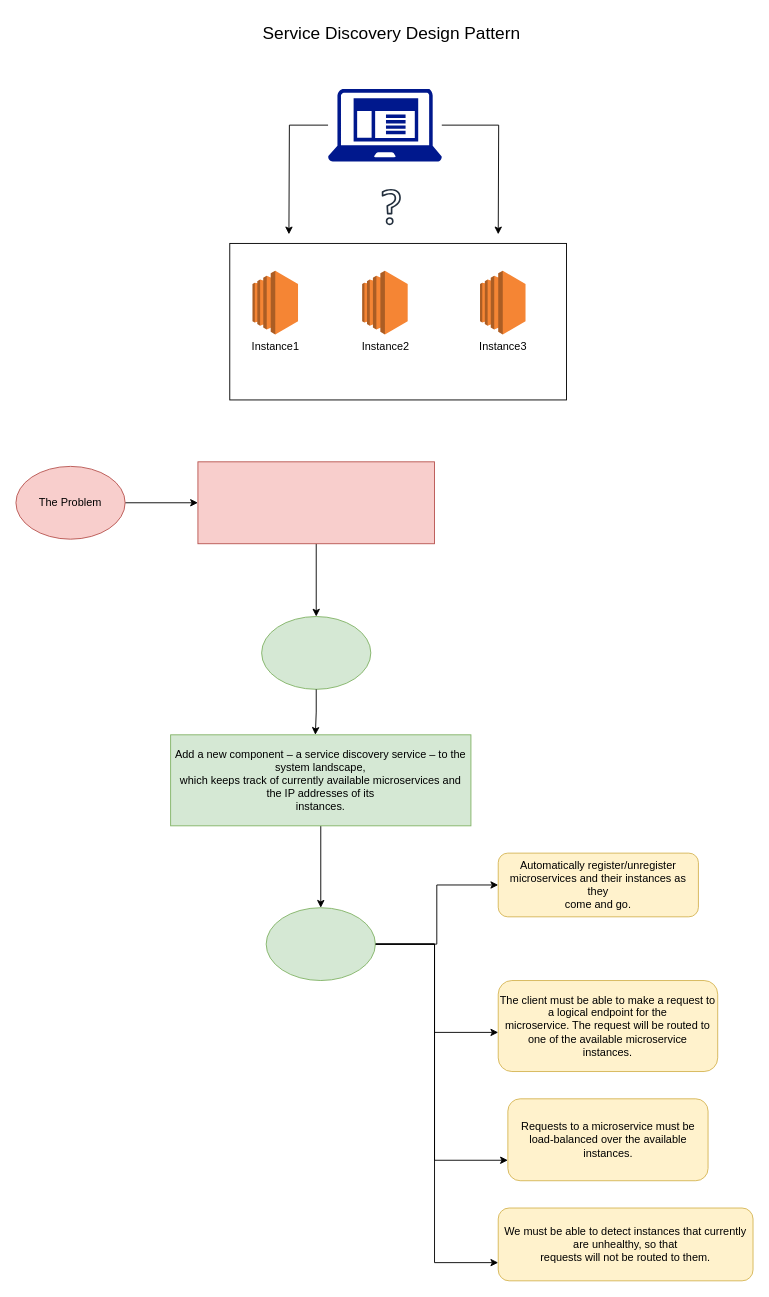
This 769x1297 diagram has some shape labels left out. Each missing label, with the centre of its shape:
How can clients find microservices and their instances?: the point at 316,502
Solution Requirements: the point at 320,944
The Solution: the point at 316,652
